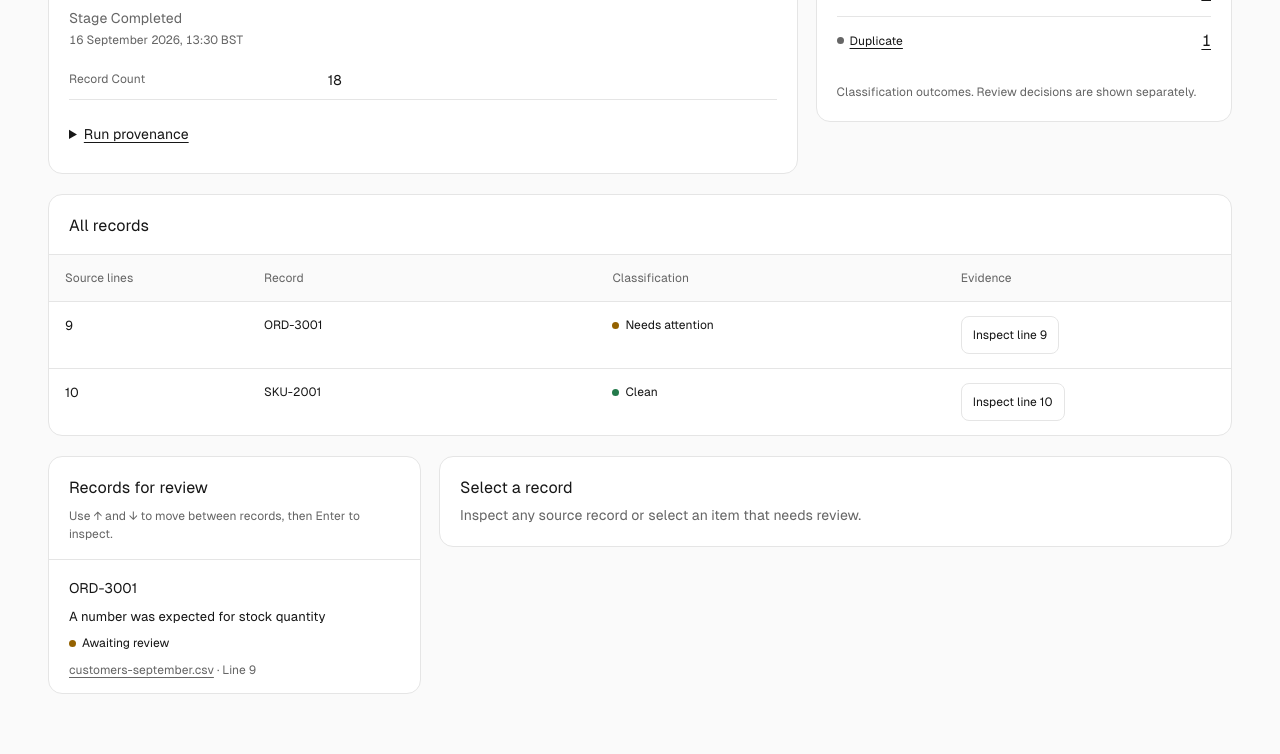
Test: clean records expose their own source evidence without unrelated review issues
(page scrolled)
Step 1. Click the button "Inspect line 10" → [1013, 402], box [961,383,1064,421]
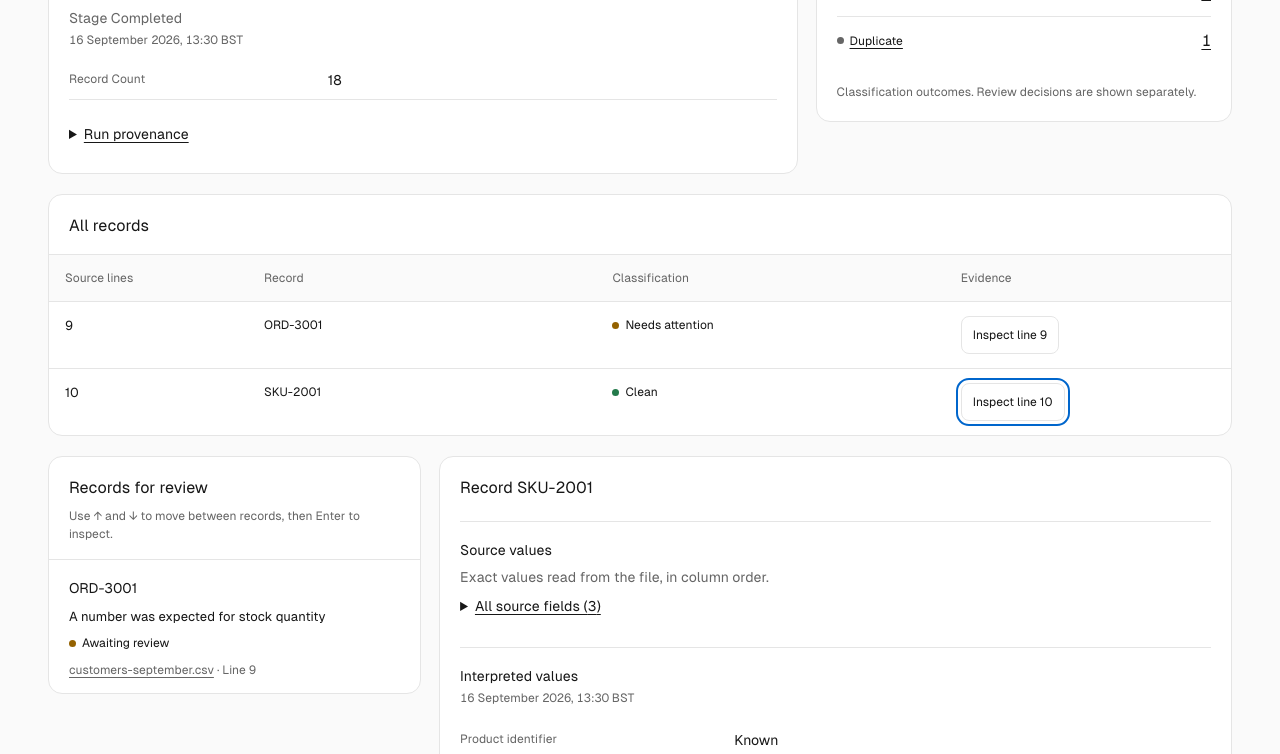
Now the heading "Record SKU-2001" is shown, box [460,478,593,497]
Step 2. Click the heading "All source fields (3)" → [538, 606], box [475,598,601,614]
(page scrolled)
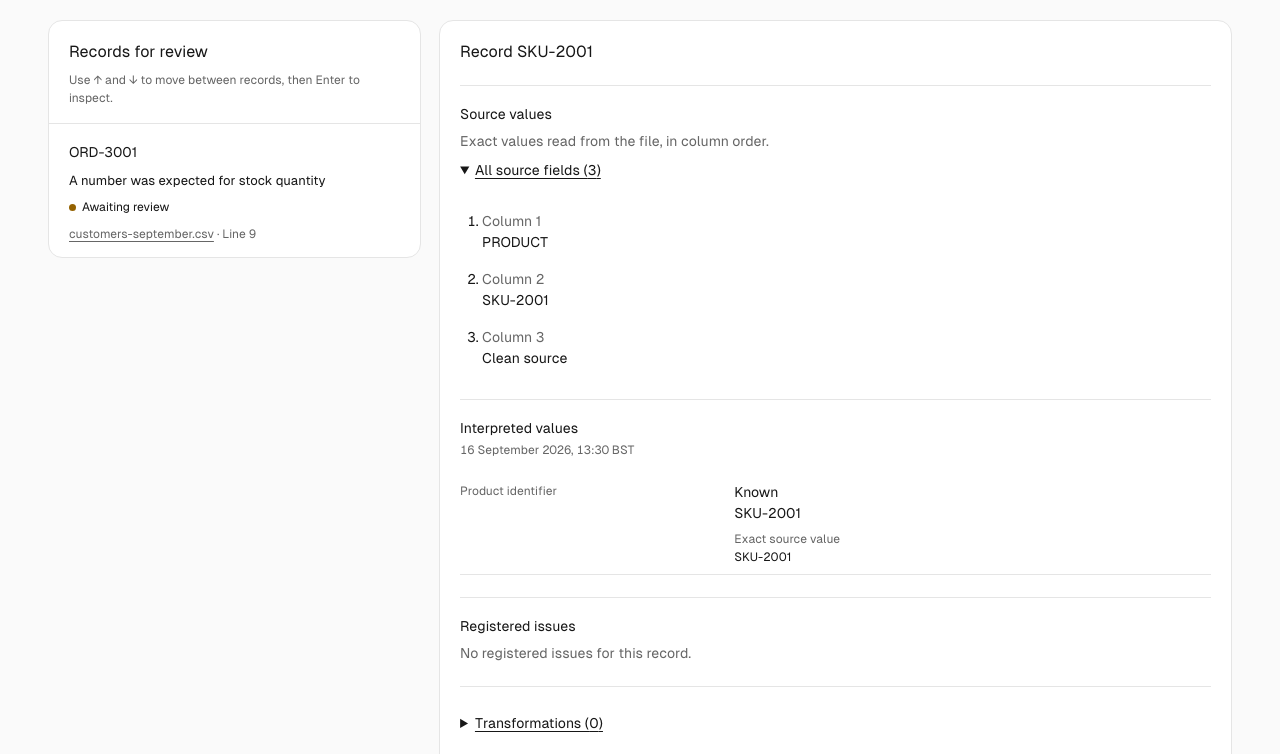
Now the text "Clean source" is shown, box [482,350,567,366]
